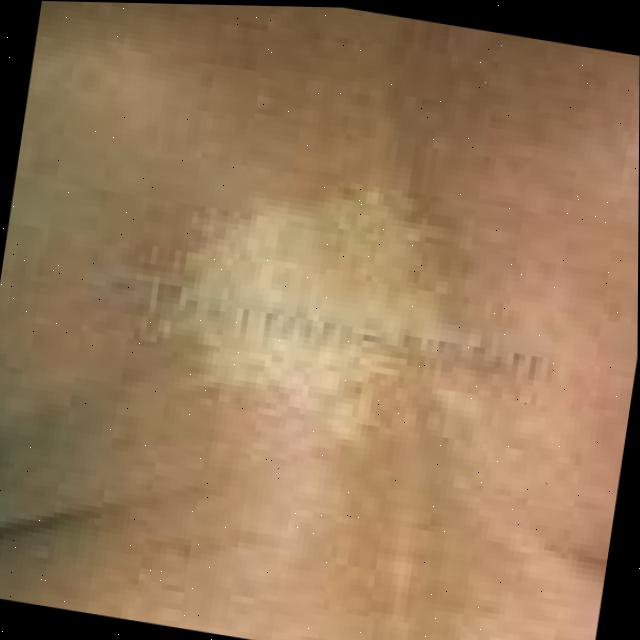Melasma: (172, 169, 484, 433)
